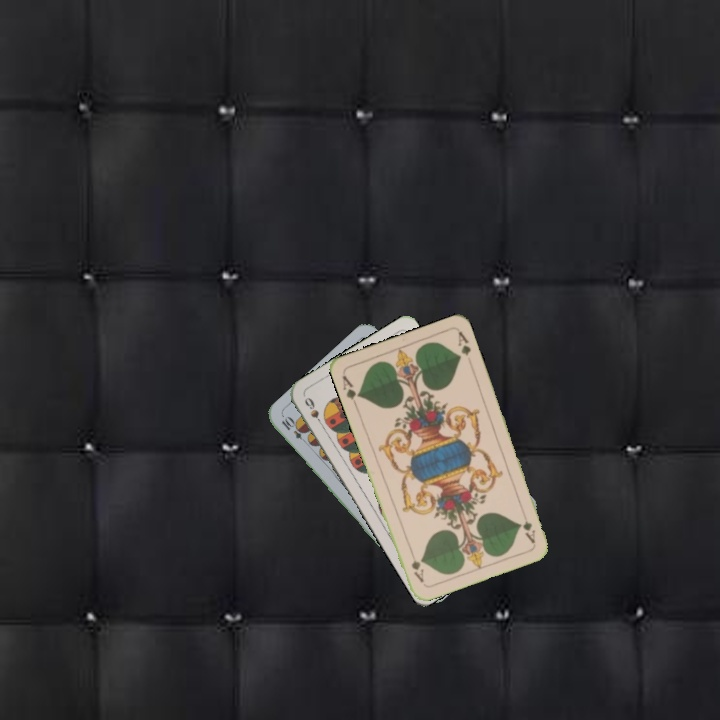E10: (277, 413, 311, 447)
GA: (338, 371, 364, 409), (519, 517, 538, 546)
S9: (300, 393, 326, 430)
